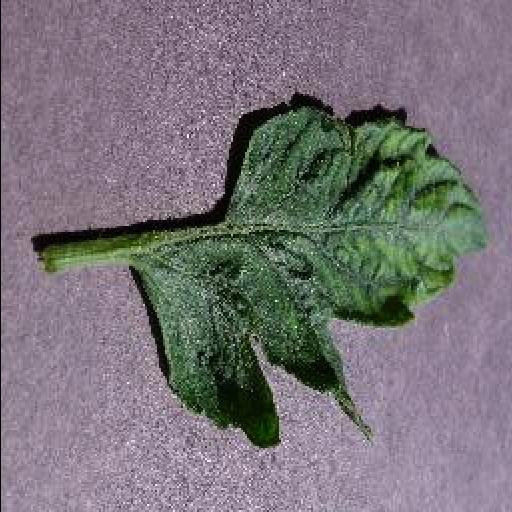Mosaic Virus: (134, 96, 488, 450)
